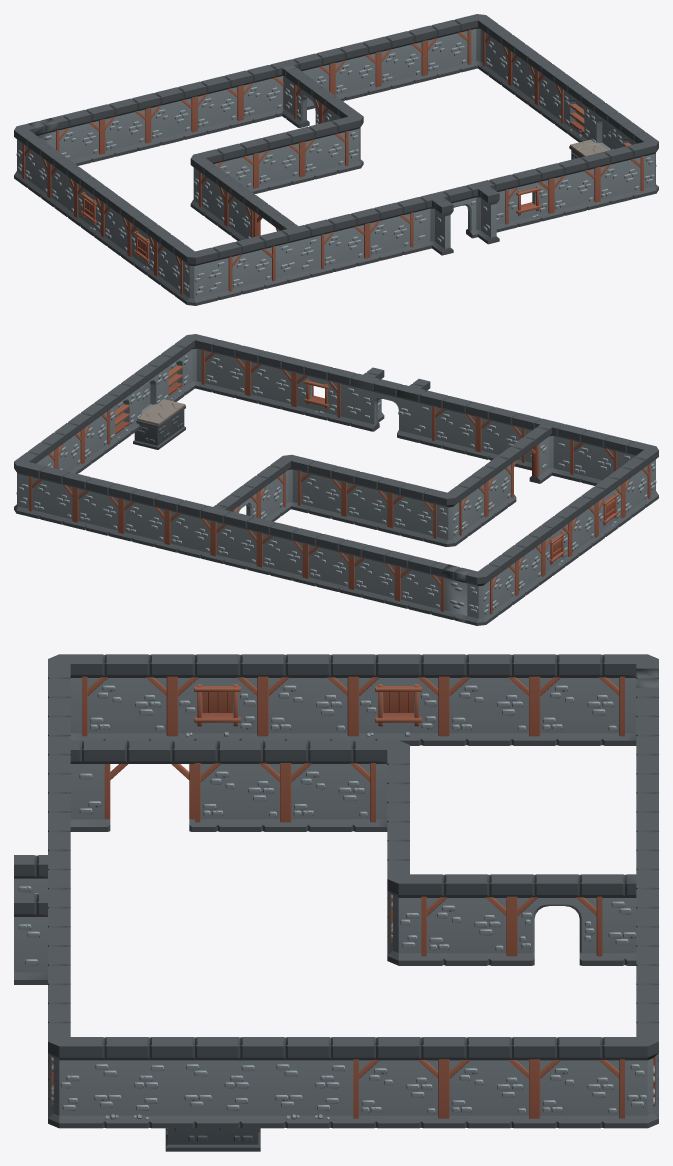
The model's file is Tavern_firstfloor_walls.glb.
3 views of the same model, one above another, from view 1: azimuth 30°, elevation 25°; view 2: azimuth 150°, elevation 25°; view 3: azimuth 270°, elevation 25° (orthographic). The views are drawn at different scales.
Parts seen in each view (by area): view 1: wall_half_endcap; view 2: wall_half_endcap; view 3: wall_half_endcap.
Part boxes in pixels (x1=…): wall_half_endcap: x1=14, y1=14, x2=658, y2=305; wall_half_endcap: x1=14, y1=334, x2=658, y2=625; wall_half_endcap: x1=14, y1=654, x2=658, y2=1151.
Bounding box in the file's own units: 41 × 5.34 × 28.5.
Materials: 1 (1 with a texture image).
